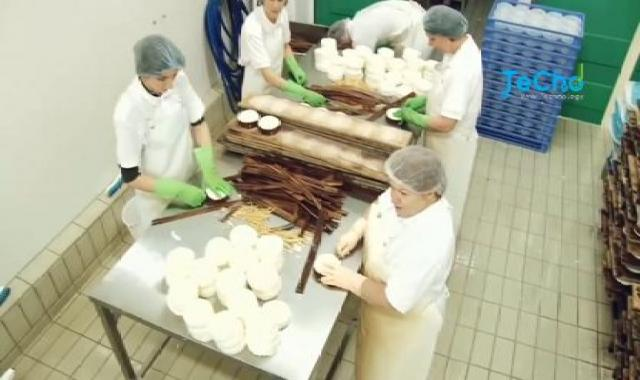hairnet: (381, 148, 453, 198), (124, 36, 192, 83), (418, 6, 472, 46)
